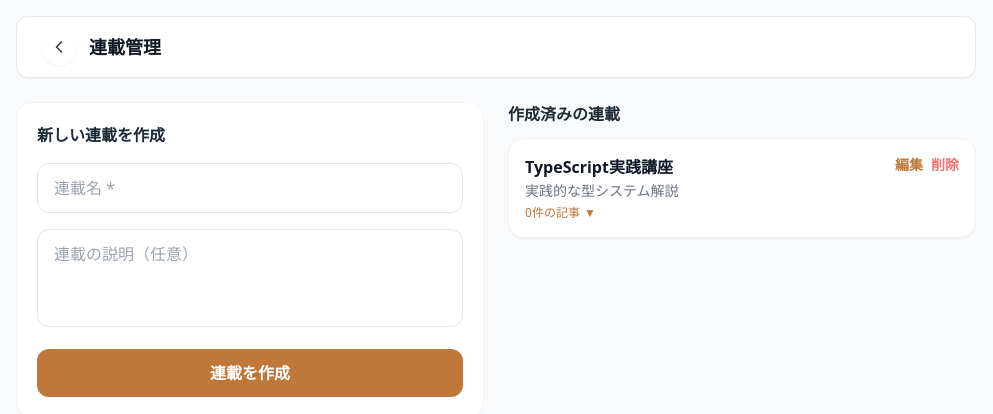
Test: WriterSeriesPage › renders series list and allows starting and canceling edit mode
Click the button "編集": [909, 165] box [895,155,923,175]
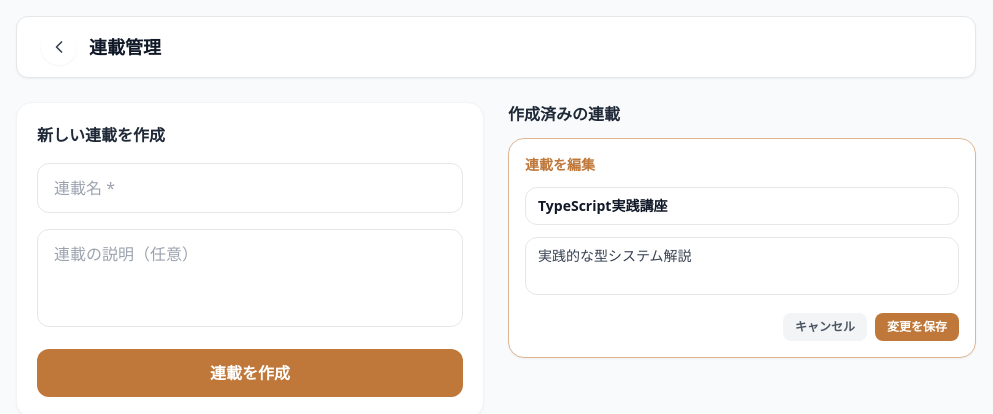
Expected: the text "連載を編集" is shown, [525,155,595,174]
Expected: the field with test id "edit-series-title" holds "TypeScript実践講座", [525,187,959,225]
Expected: the button "キャンセル" is shown
Click the button "キャンセル": [825, 327] box [783,313,867,341]
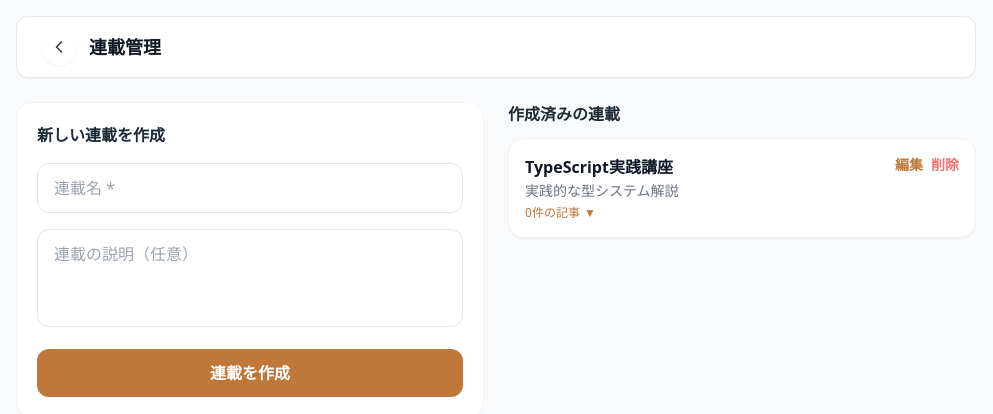
Expected: the text "連載を編集" is gone
Expected: the text "TypeScript実践講座" is shown, [525,156,673,178]
